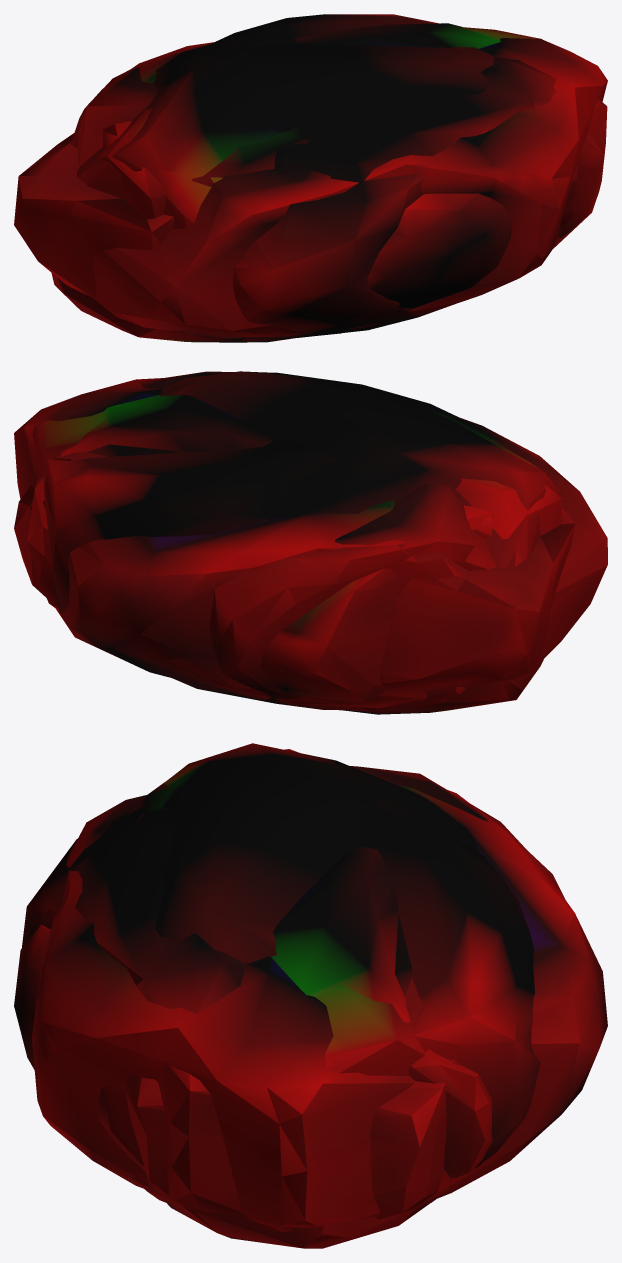
File: stepping.gltf
3 renders of one model, top to bottom at view 1: azimuth 30°, elevation 25°; view 2: azimuth 150°, elevation 25°; view 3: azimuth 270°, elevation 25°, orthographic. The views are drawn at different scales.
Visible parts, largest first — view 1: lod0; view 2: lod0; view 3: lod0.
Part boxes in pixels (box(x1,y1,x2,y2)): lod0: box(14, 14, 607, 342); lod0: box(14, 371, 607, 714); lod0: box(14, 743, 607, 1248).
Size of what is drawn, in the model's own units: 1.15 by 0.5333 by 0.8476.
Materials: 1 (1 with a texture image).
